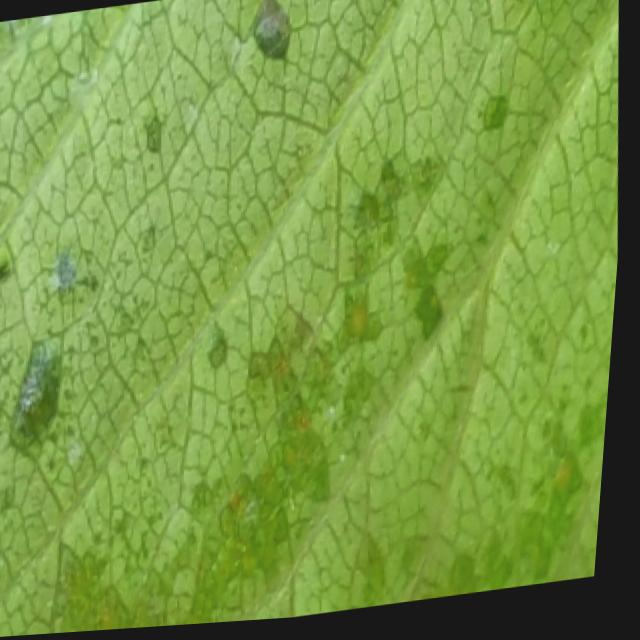Angular Leafspot: (0, 0, 621, 638)
